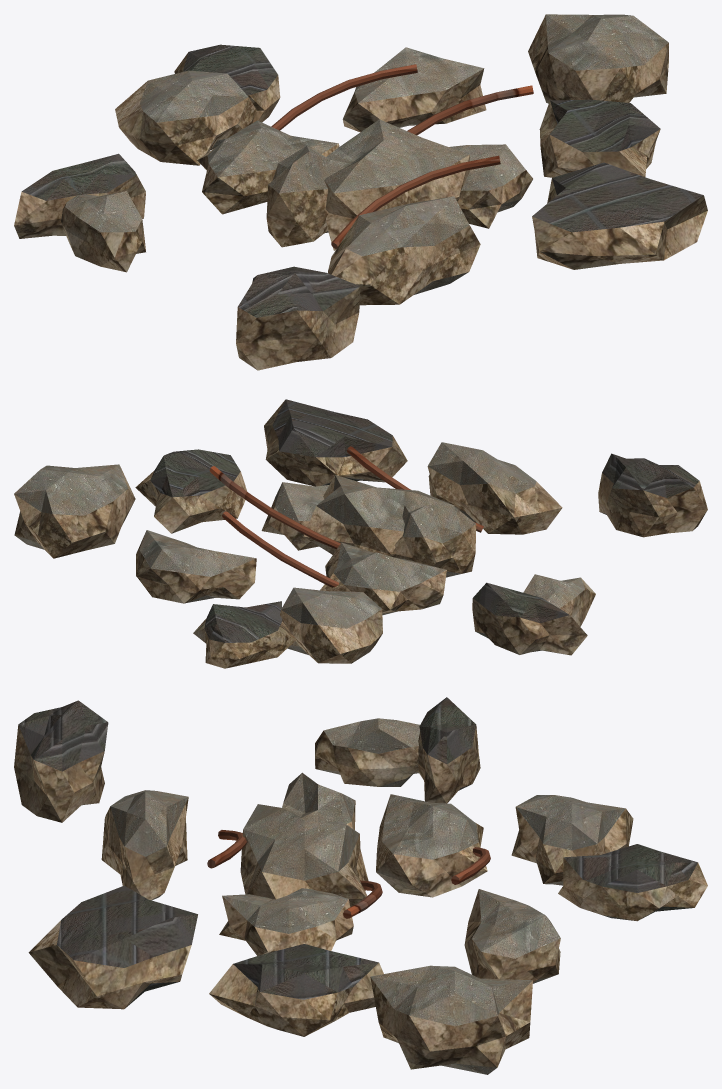
File: Wreckage_RubbleScatter.fbx
3 views of the same model, one above another, from view 1: azimuth 30°, elevation 25°; view 2: azimuth 150°, elevation 25°; view 3: azimuth 270°, elevation 25° (orthographic). The views are drawn at different scales.
Visible parts, largest first — view 1: Wreckage_RubbleScatter; view 2: Wreckage_RubbleScatter; view 3: Wreckage_RubbleScatter.
Boxes of the visible parts, x1,y1,x2,y2 form: Wreckage_RubbleScatter: (14,14,707,370); Wreckage_RubbleScatter: (14,399,707,668); Wreckage_RubbleScatter: (14,697,707,1074).
Bounding box in the file's own units: 2.16 × 0.2706 × 1.87.
4 materials, 4 textured.
